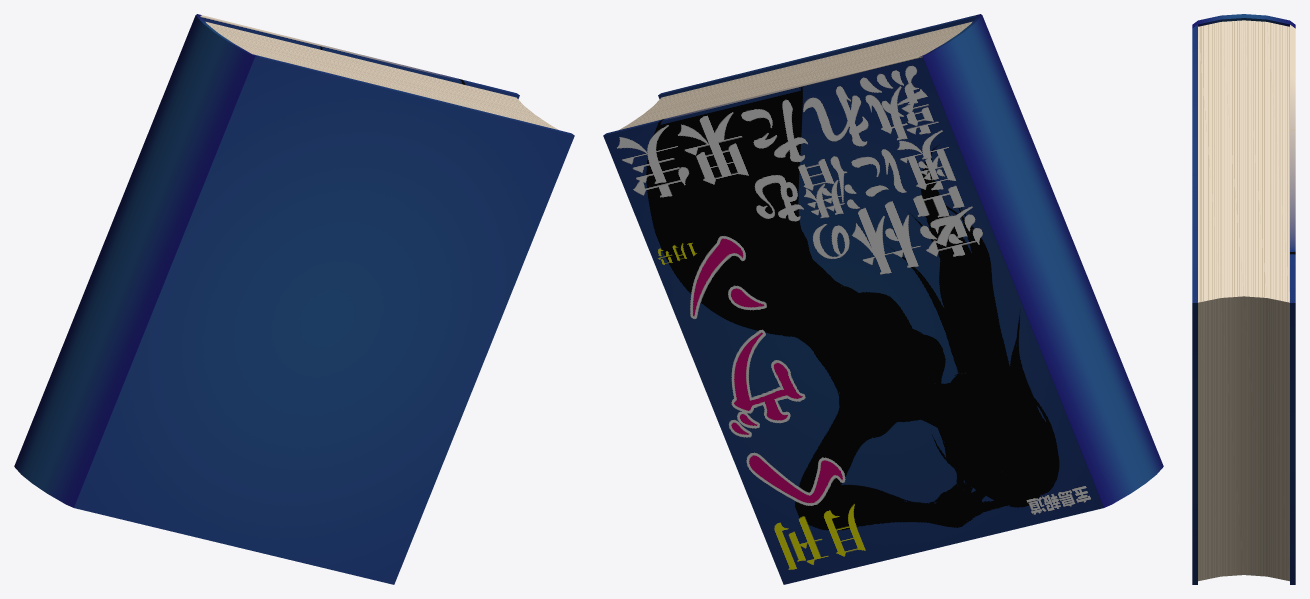
Rendered from Book.FBX.
The picture shows the model from 3 angles, left to right: view 1: azimuth 30°, elevation 25°; view 2: azimuth 150°, elevation 25°; view 3: azimuth 270°, elevation 25°; orthographic projection. The views are drawn at different scales.
Visible parts, largest first — view 1: Book; view 2: Book; view 3: Book.
Part boxes in pixels (left/top/right/bottom): Book: left=14, top=14, right=574, bottom=584; Book: left=603, top=14, right=1163, bottom=584; Book: left=1192, top=14, right=1295, bottom=584.
Size of the model in its own units: 712 by 753 by 139.
1 material, 1 textured.
